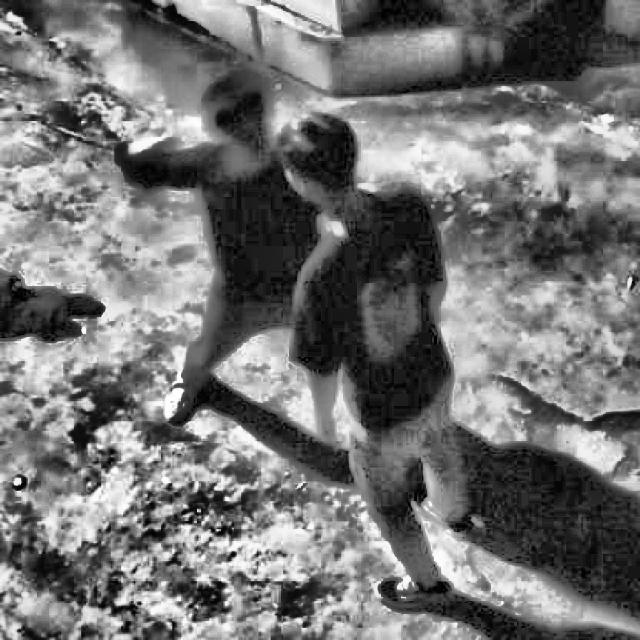robbery: (91, 64, 489, 628)
